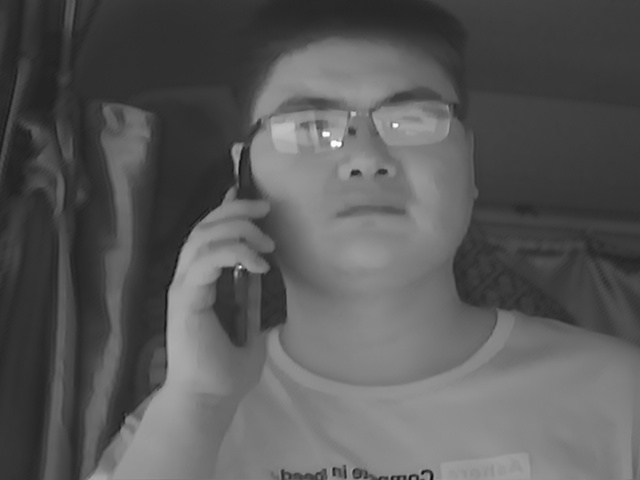hand: (160, 188, 280, 395)
